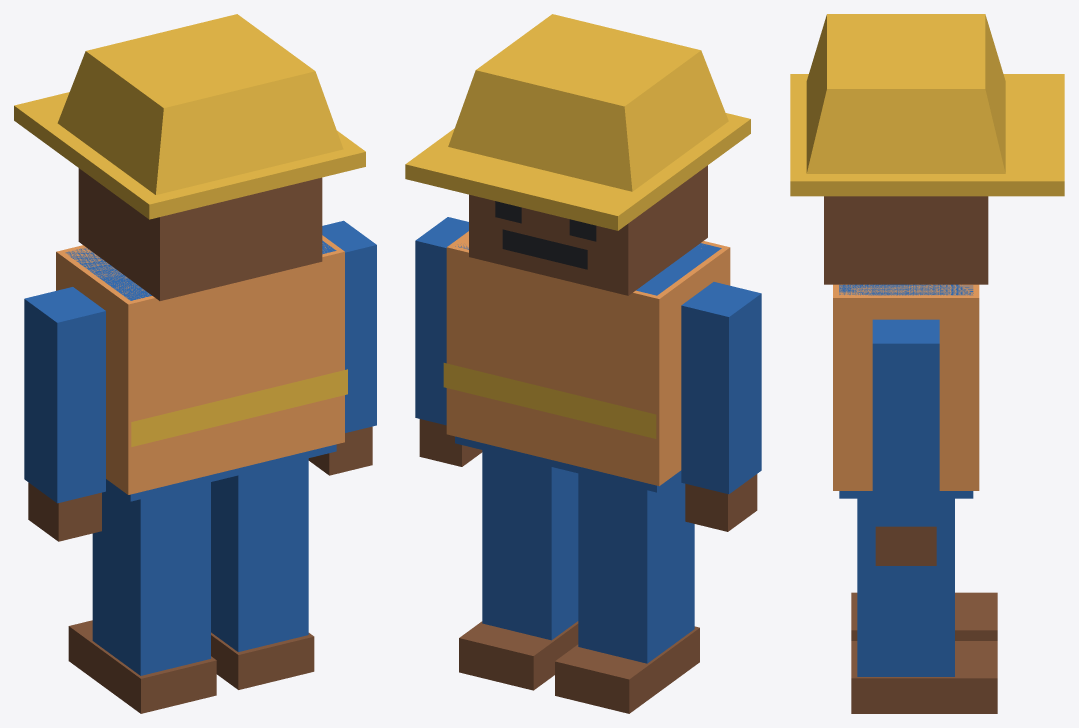
The model's file is H_Worker.fbx.
3 renders of one model, left to right at view 1: azimuth 30°, elevation 25°; view 2: azimuth 150°, elevation 25°; view 3: azimuth 270°, elevation 25°, orthographic. The views are drawn at different scales.
Parts seen in each view (by area): view 1: H_Worker; view 2: H_Worker; view 3: H_Worker.
Part boxes in pixels (x1,y1,x2,y2): H_Worker: [14, 14, 376, 713]; H_Worker: [405, 14, 761, 713]; H_Worker: [790, 14, 1064, 713].
Bounding box in the file's own units: 0.767 × 1.4 × 0.5625.
